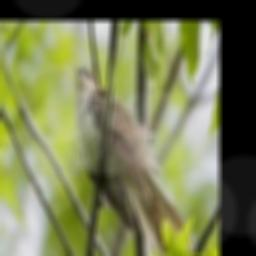Cuckoo: (71, 61, 195, 256)
